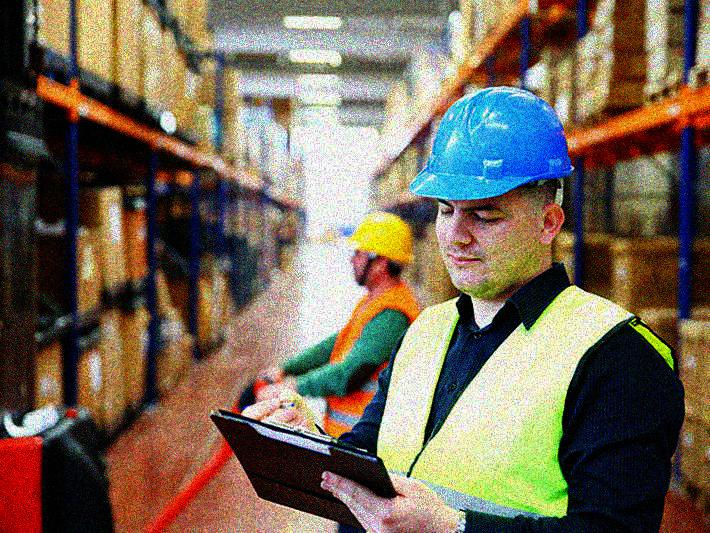helmet: (410, 84, 574, 299), (336, 209, 417, 287)
